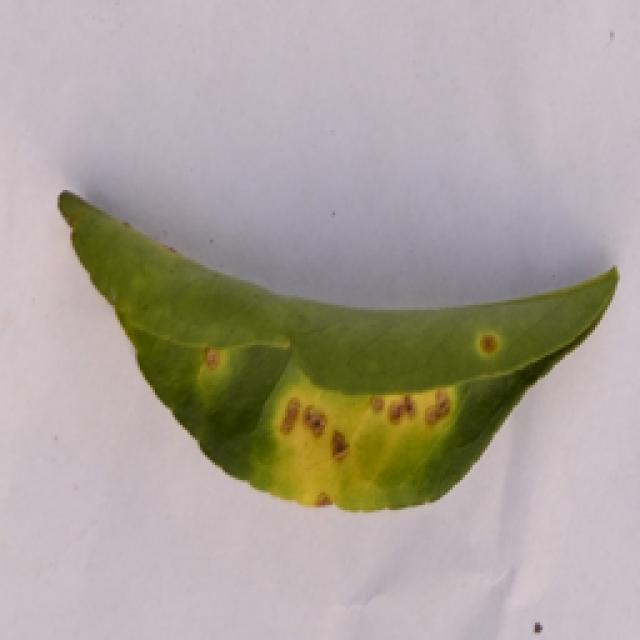canker: (61, 196, 604, 520)
